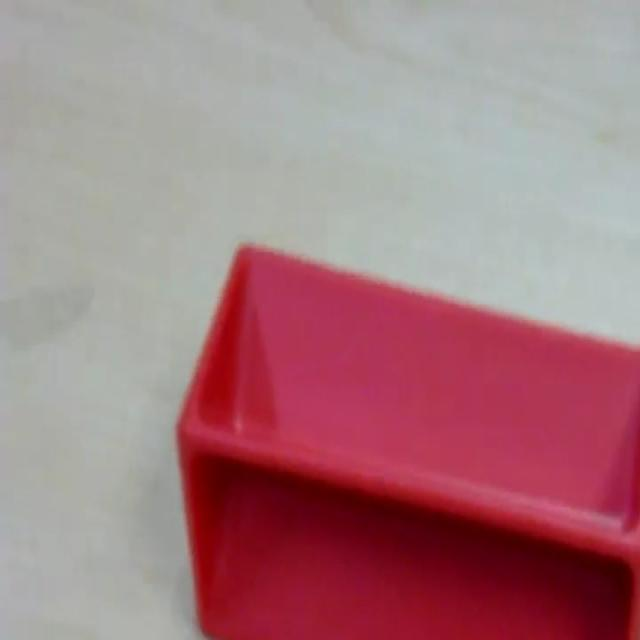red_block: (175, 239, 638, 637)
